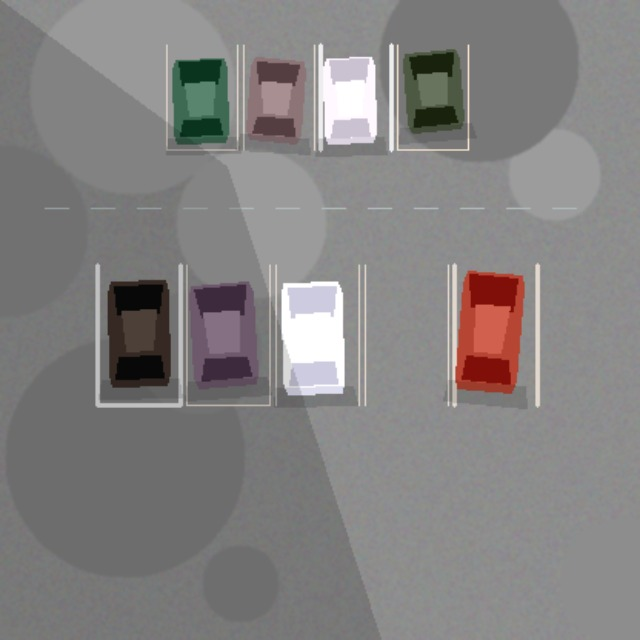space-empty: (365, 265, 448, 405)
space-occupied: (97, 265, 180, 405), (186, 265, 269, 405), (275, 265, 358, 405), (454, 265, 537, 405), (166, 45, 237, 149), (243, 45, 314, 149), (320, 45, 391, 149), (397, 45, 468, 149)
